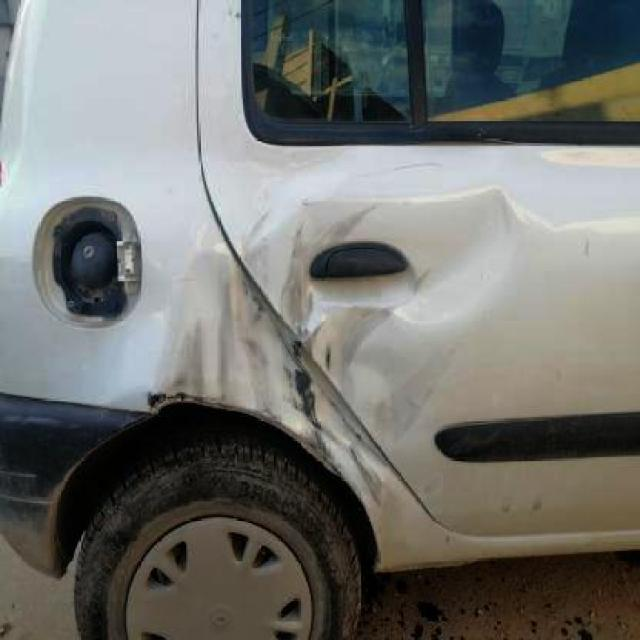car damage: (164, 221, 391, 462), (282, 186, 529, 344), (145, 384, 247, 414)
